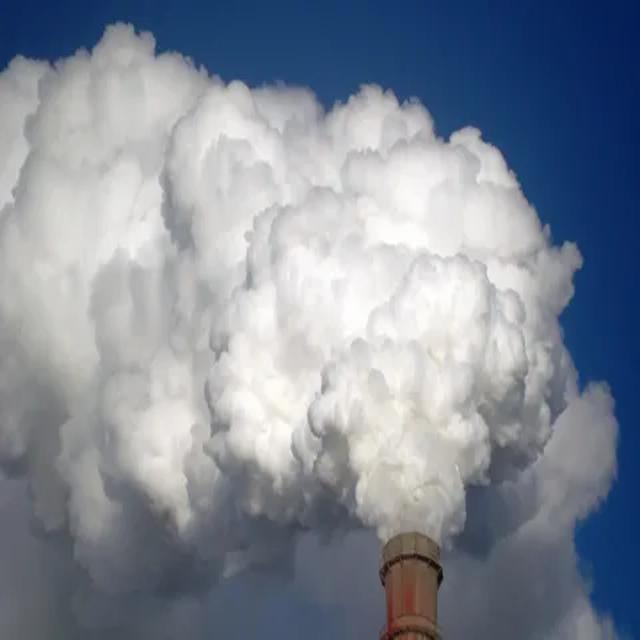Smoke: (1, 22, 608, 538)
